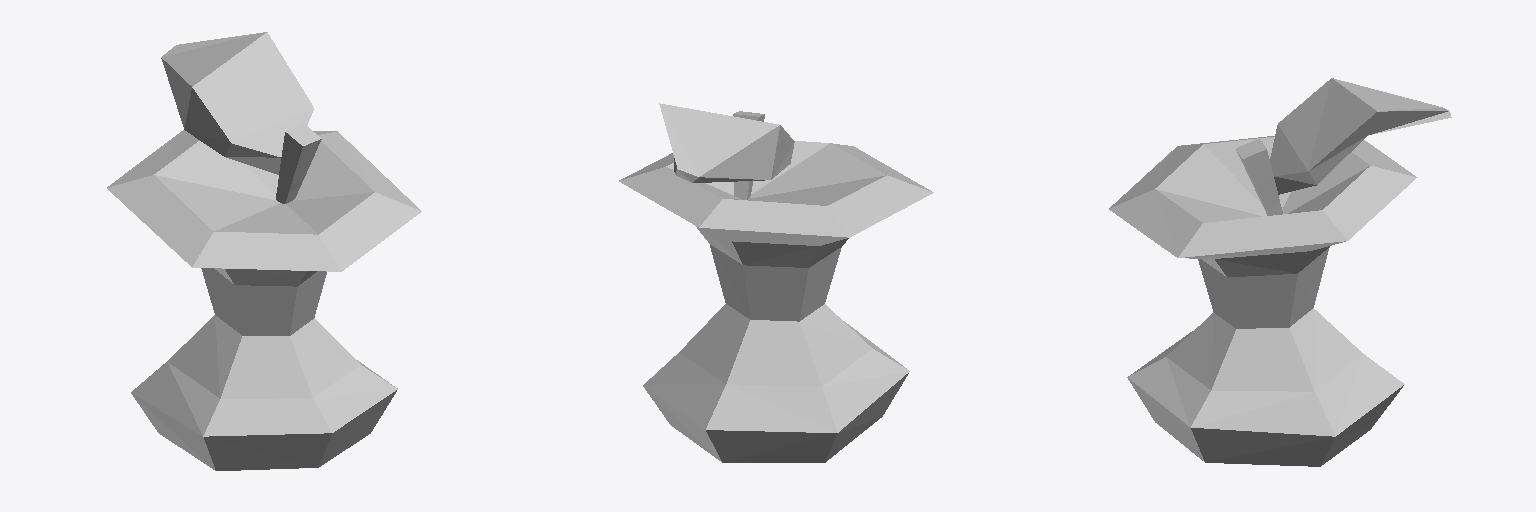
File: eaten_apple.obj
3 views of the same model, side by side, from view 1: azimuth 30°, elevation 25°; view 2: azimuth 150°, elevation 25°; view 3: azimuth 270°, elevation 25° (orthographic).
Parts seen in each view (by area): view 1: eaten_apple_Sphere.004; view 2: eaten_apple_Sphere.004; view 3: eaten_apple_Sphere.004.
Part boxes in pixels (x1,y1,x2,y2): eaten_apple_Sphere.004: (107, 32, 421, 470); eaten_apple_Sphere.004: (619, 103, 933, 462); eaten_apple_Sphere.004: (1109, 78, 1451, 466).
Size of the model in its own units: 0.5396 by 0.7735 by 0.6925.